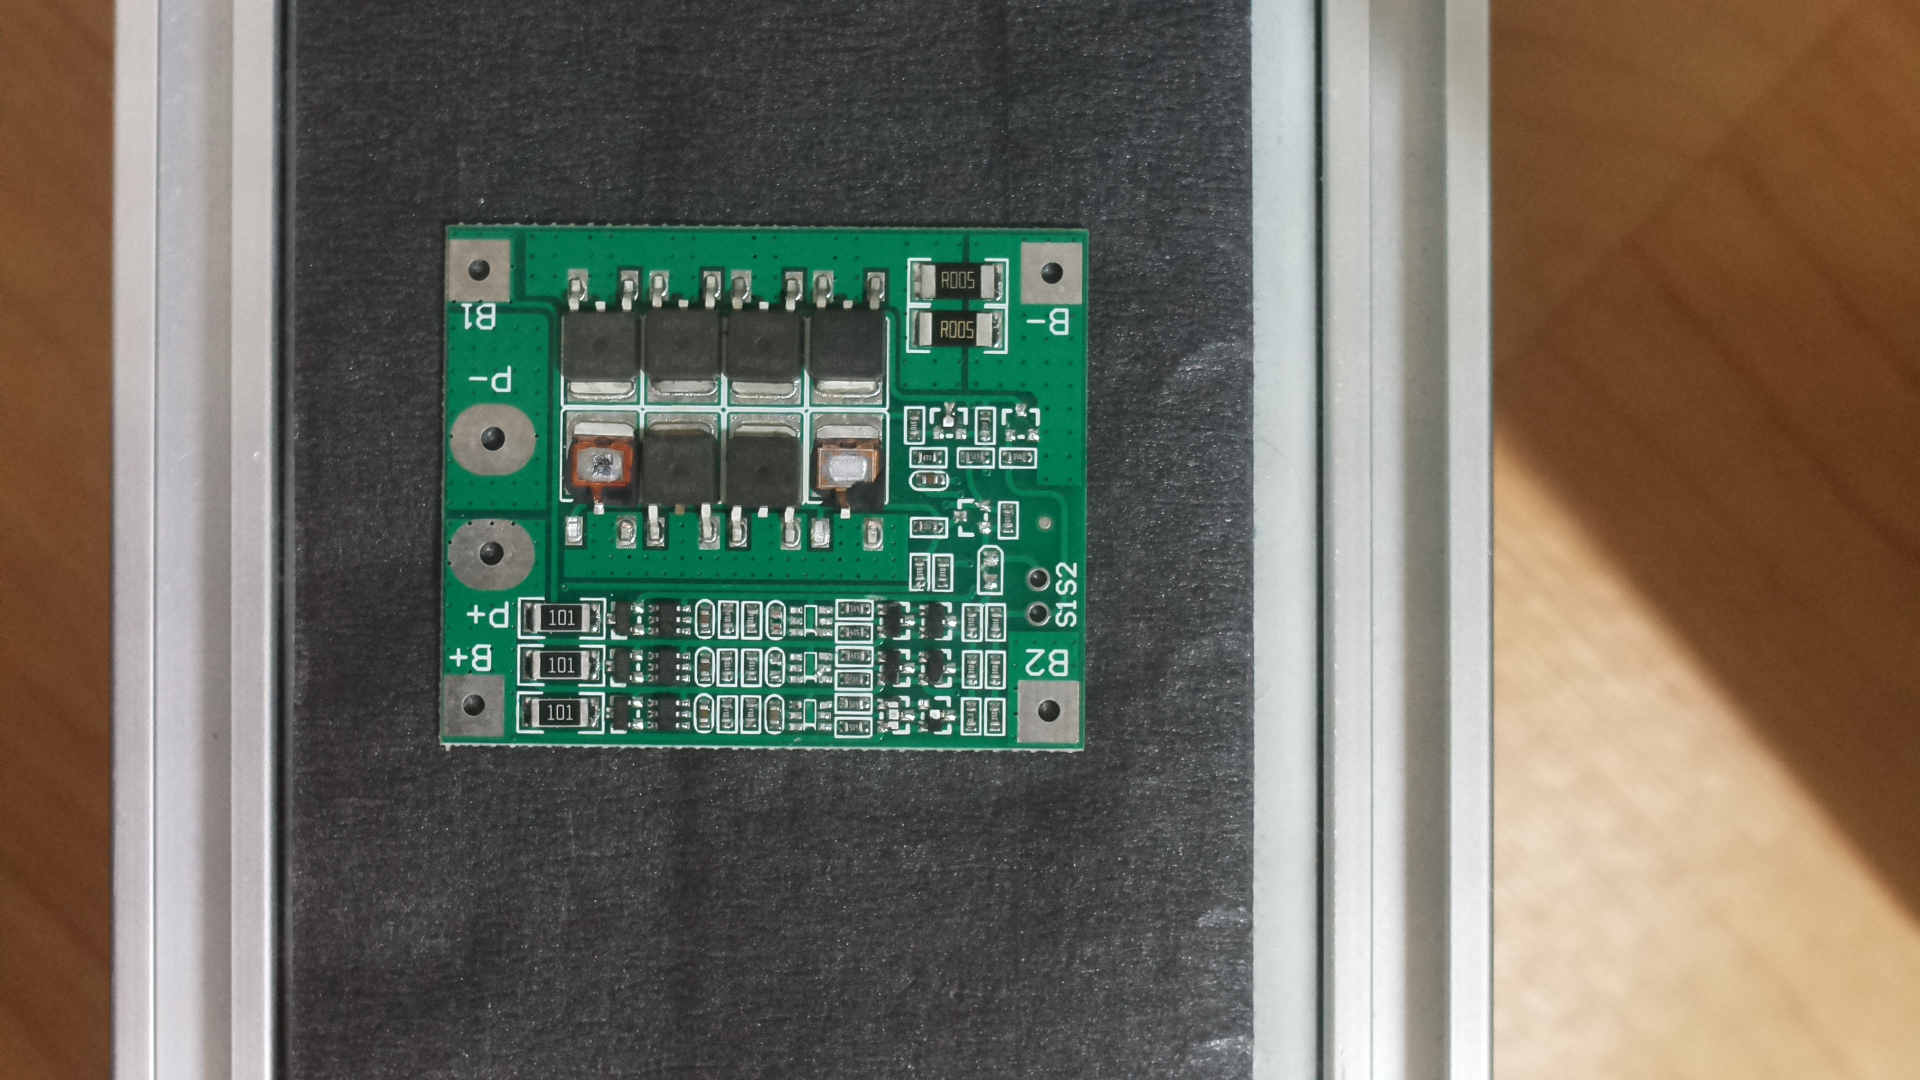C_Missing_part: (433, 206, 1100, 771)
